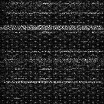lte: (1, 24, 104, 30), (3, 79, 104, 84), (3, 49, 104, 52)
